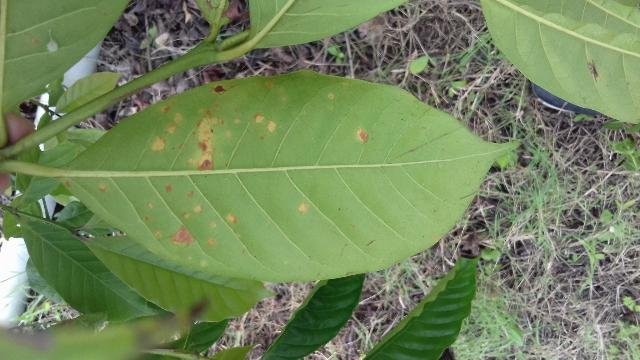rust_level_1: (60, 72, 519, 283)
